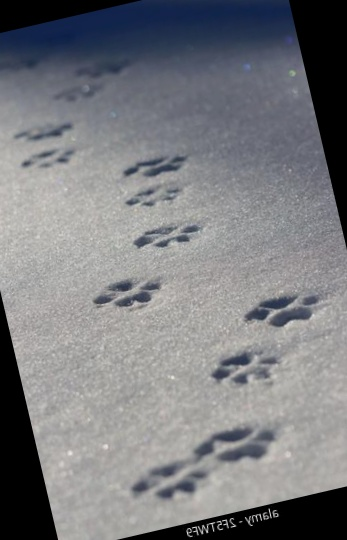fox: (99, 394, 318, 532), (66, 260, 176, 337), (238, 278, 333, 350)
